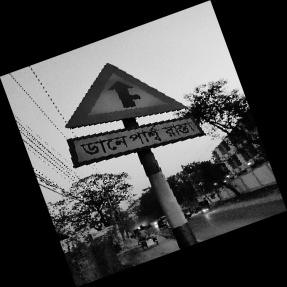Side-road-right: (64, 62, 200, 170)
